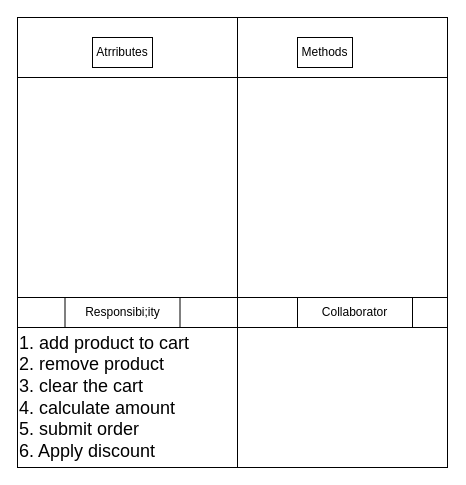
Image size: 466x485. Some labels were removed from this diagram. The box of each missing label's shape, as (x1, y1, x2, y2) in pixels:
+addItem() +removeItem() +clearCart() +getCartItems() +calculateTotal(): (236, 76, 448, 298)
-User -User -User -Payment -Order -Payment: (236, 326, 448, 468)
-userID -items -price -lastModified: (16, 76, 238, 298)
